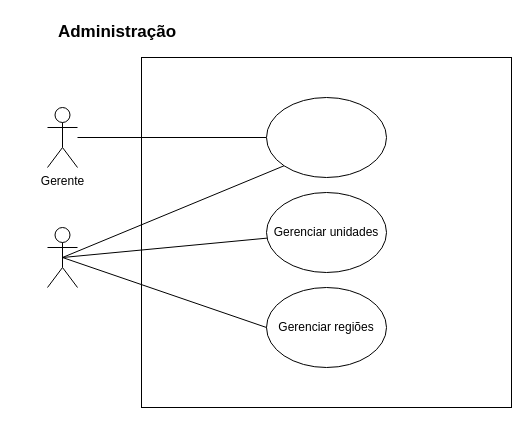
Some shapes in this 529 by 425 pixel diagram are drawn without their labels. Each missing label, with the centre of its shape:
Administrador: (62,257)
Gerenciar usuários: (326,137)
